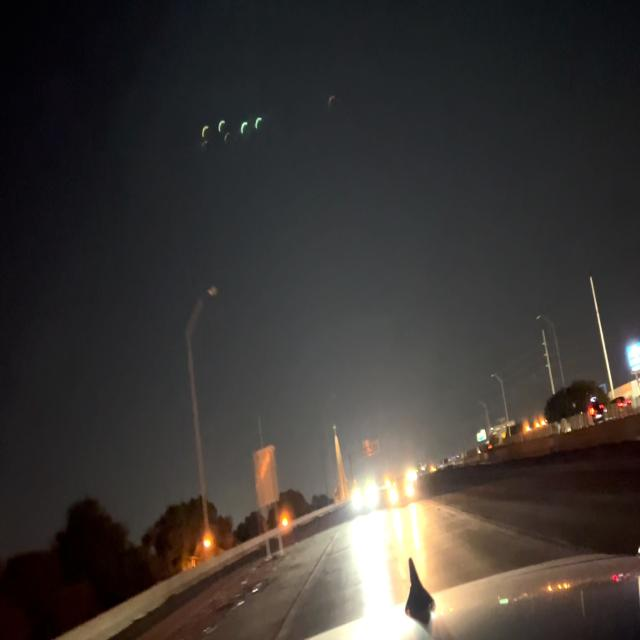back-of-sign: (252, 444, 278, 511)
